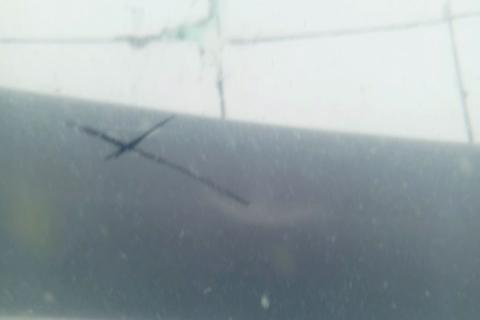keretakan: (60, 107, 251, 208)
